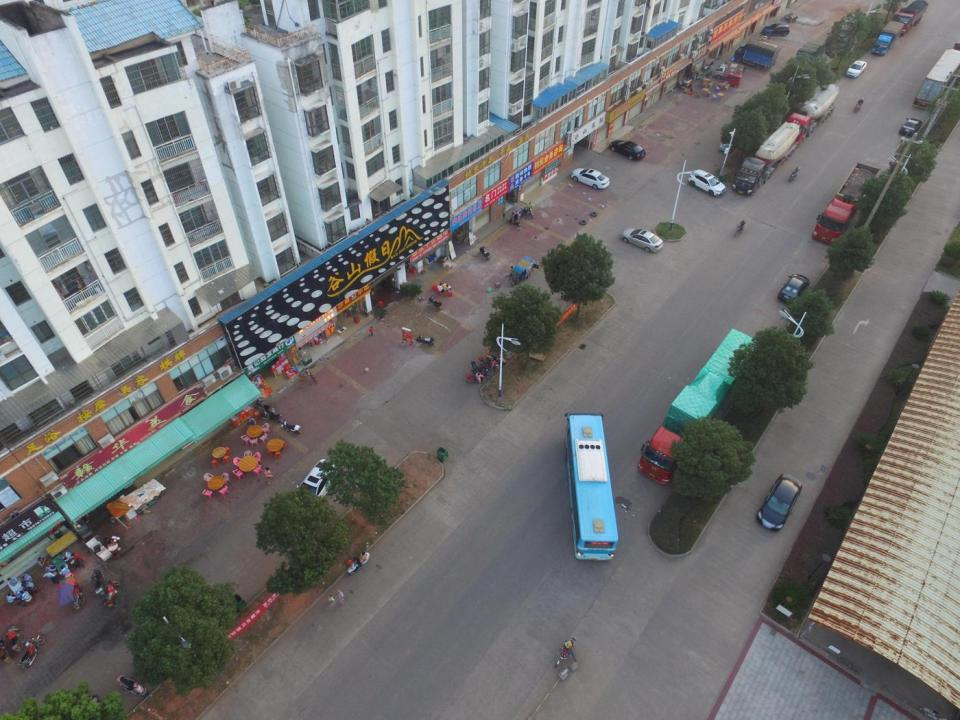bus: (563, 411, 618, 561)
car: (289, 459, 341, 514), (756, 472, 804, 531), (619, 228, 664, 252), (688, 169, 726, 197), (777, 273, 810, 305), (609, 139, 647, 161), (571, 168, 610, 189), (898, 118, 923, 137), (760, 22, 790, 36), (845, 60, 867, 78)
truck: (637, 328, 763, 485), (811, 161, 881, 246), (732, 122, 802, 195), (784, 82, 840, 142), (912, 41, 960, 111), (890, 0, 929, 34), (734, 42, 781, 70), (871, 20, 904, 55), (713, 63, 745, 82)
